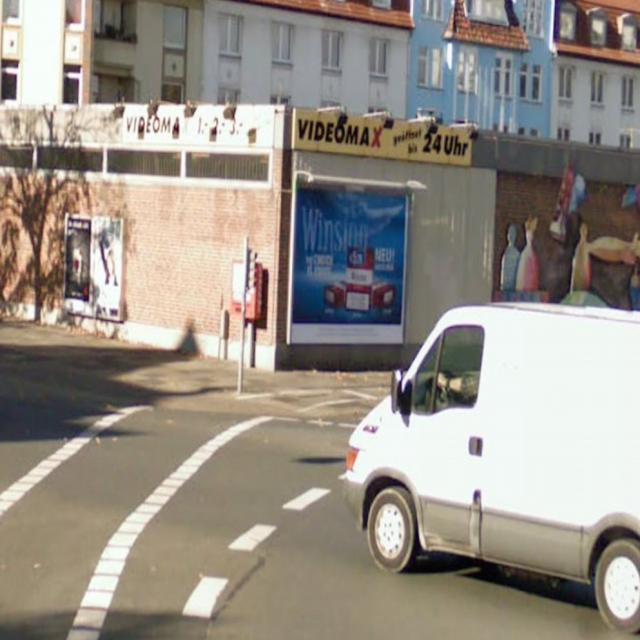Werbetafel frei: (288, 175, 421, 347), (61, 211, 127, 319)
